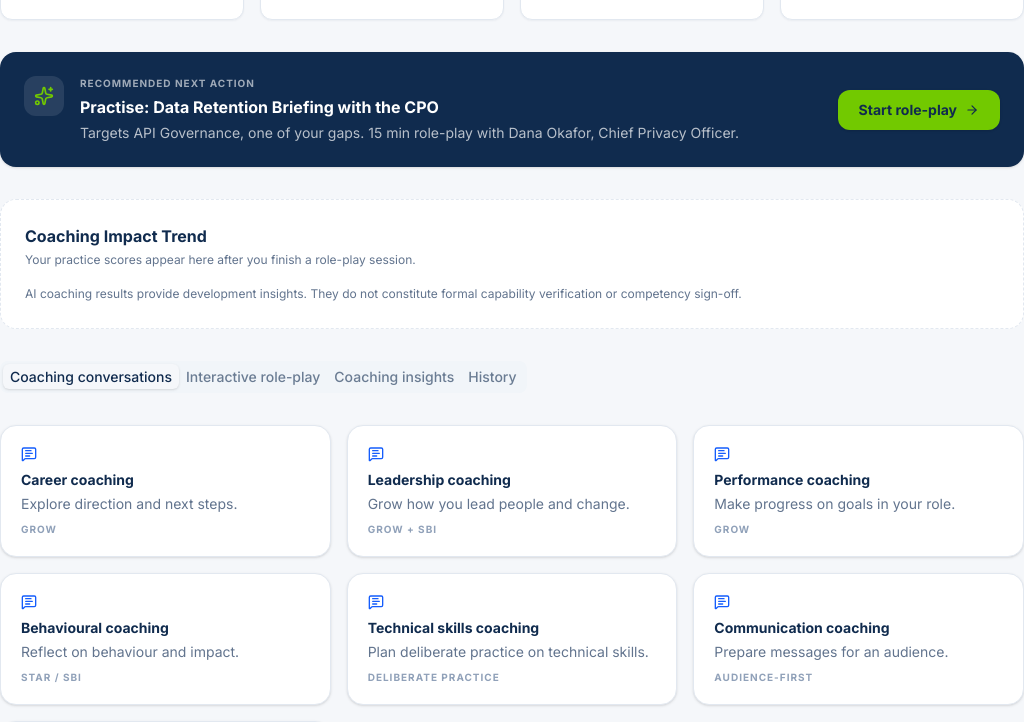
Scenario: AI Coaching dashboard › explains how to get insights before any session is finished
(page scrolled)
Click the tab "Coaching insights": (394, 376) [327, 364, 461, 389]
(page scrolled)
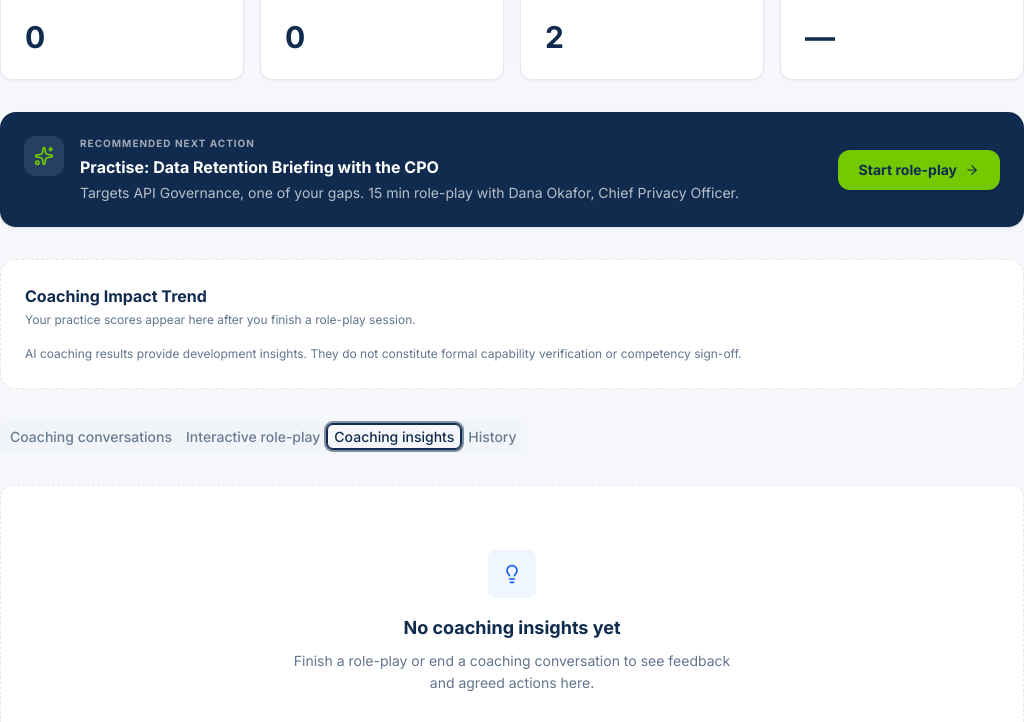
Check: the heading "No coaching insights yet" is shown, box [404, 614, 620, 642]
